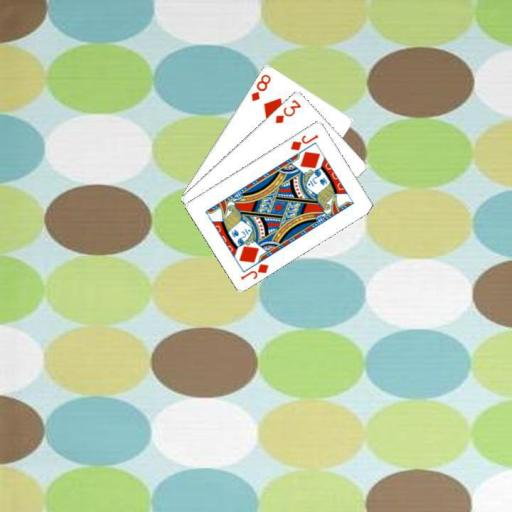3D: (272, 96, 303, 124)
8D: (248, 71, 273, 103)
JD: (238, 260, 270, 282), (287, 131, 320, 152)
